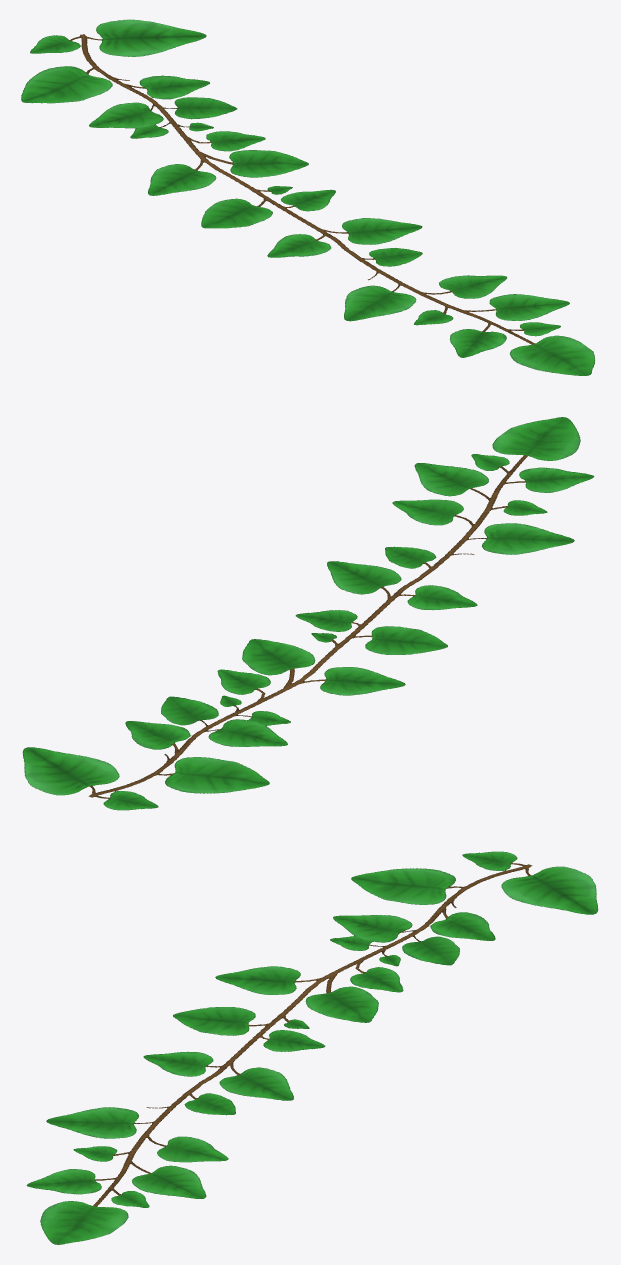
The model's file is Ivy1.fbx.
The picture shows the model from 3 angles, top to bottom: view 1: azimuth 30°, elevation 25°; view 2: azimuth 150°, elevation 25°; view 3: azimuth 330°, elevation 25°; orthographic projection. The views are drawn at different scales.
Parts seen in each view (by area): view 1: Ivy1; view 2: Ivy1; view 3: Ivy1.
Boxes of the visible parts, x1,y1,x2,y2 form: Ivy1: [21, 19, 594, 375]; Ivy1: [22, 417, 594, 810]; Ivy1: [26, 851, 598, 1244].
Size of the model in its own units: 3.76 by 8.79e-16 by 14.35.
